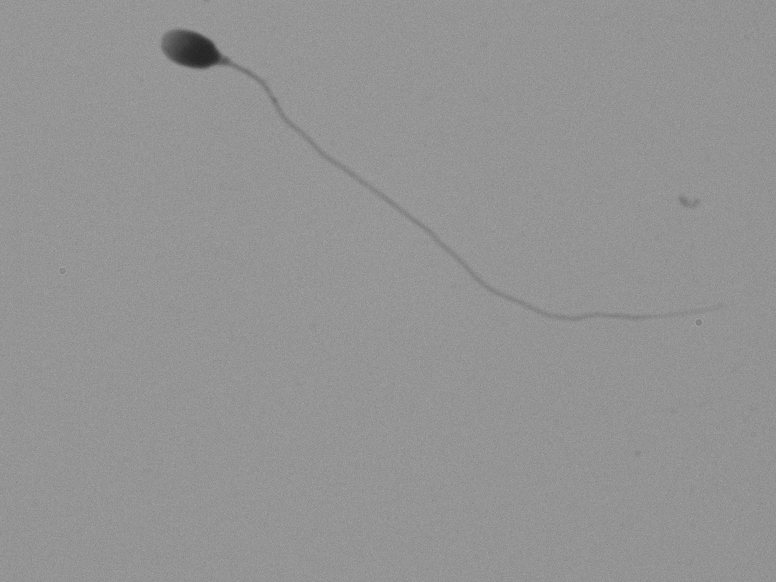Normal: (122, 7, 706, 407)
